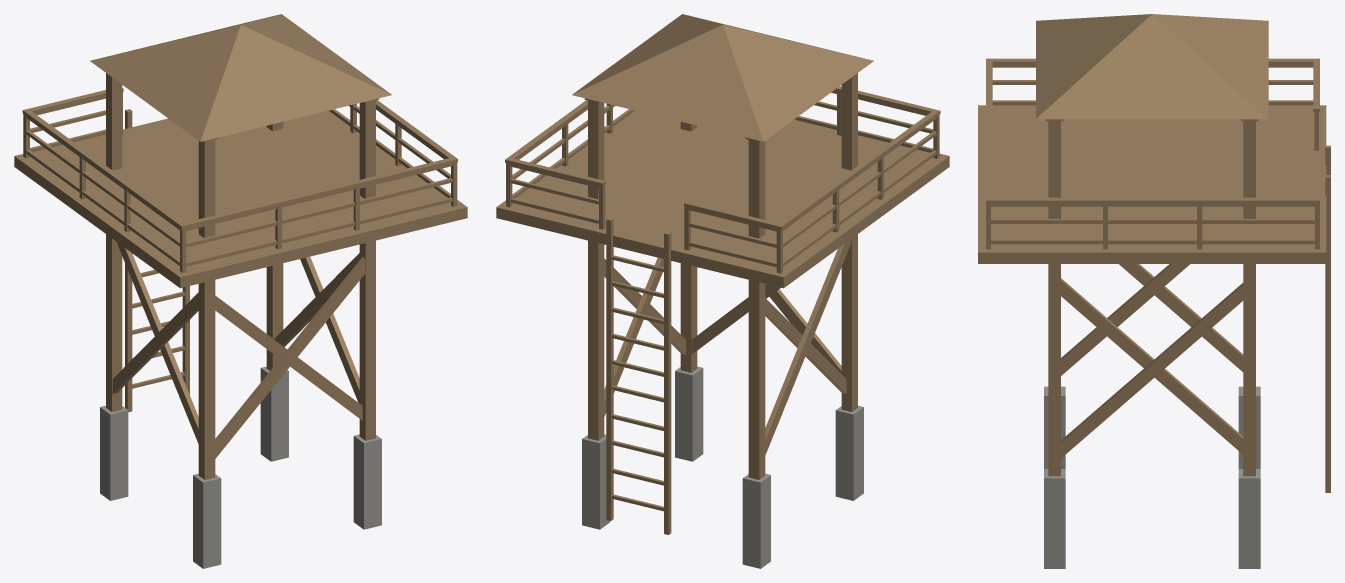
The model's file is watchtower-03.glb.
3 renders of one model, left to right at view 1: azimuth 30°, elevation 25°; view 2: azimuth 150°, elevation 25°; view 3: azimuth 270°, elevation 25°, orthographic. The views are drawn at different scales.
Visible parts, largest first — view 1: watchtower-03; view 2: watchtower-03; view 3: watchtower-03.
Boxes of the visible parts, box(x1,y1,x2,y2) form: watchtower-03: box(14, 14, 467, 568); watchtower-03: box(496, 14, 949, 568); watchtower-03: box(978, 14, 1330, 568).
Size of the model in its own units: 5.51 by 8.88 by 5.58.
